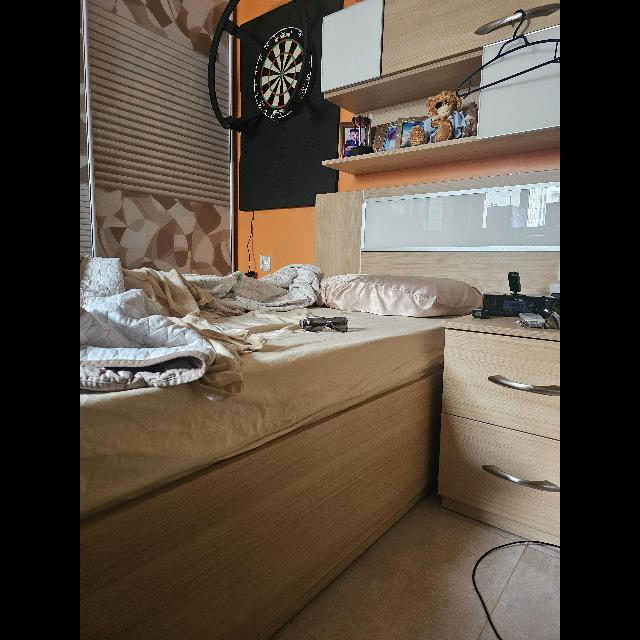Sunglasses: (298, 316, 348, 332)
